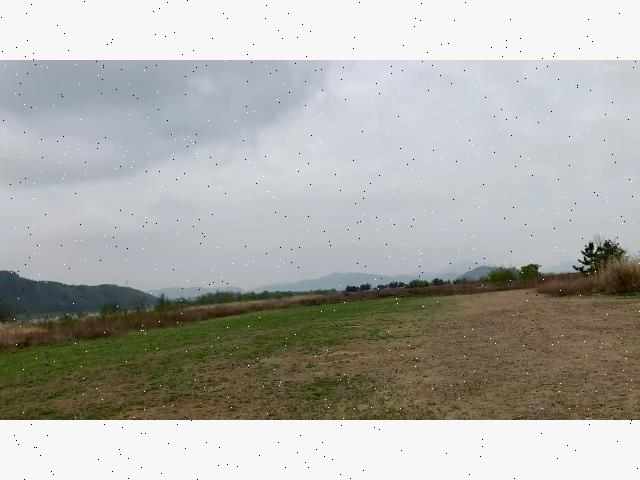Anti-Drone: (371, 213, 397, 233)
